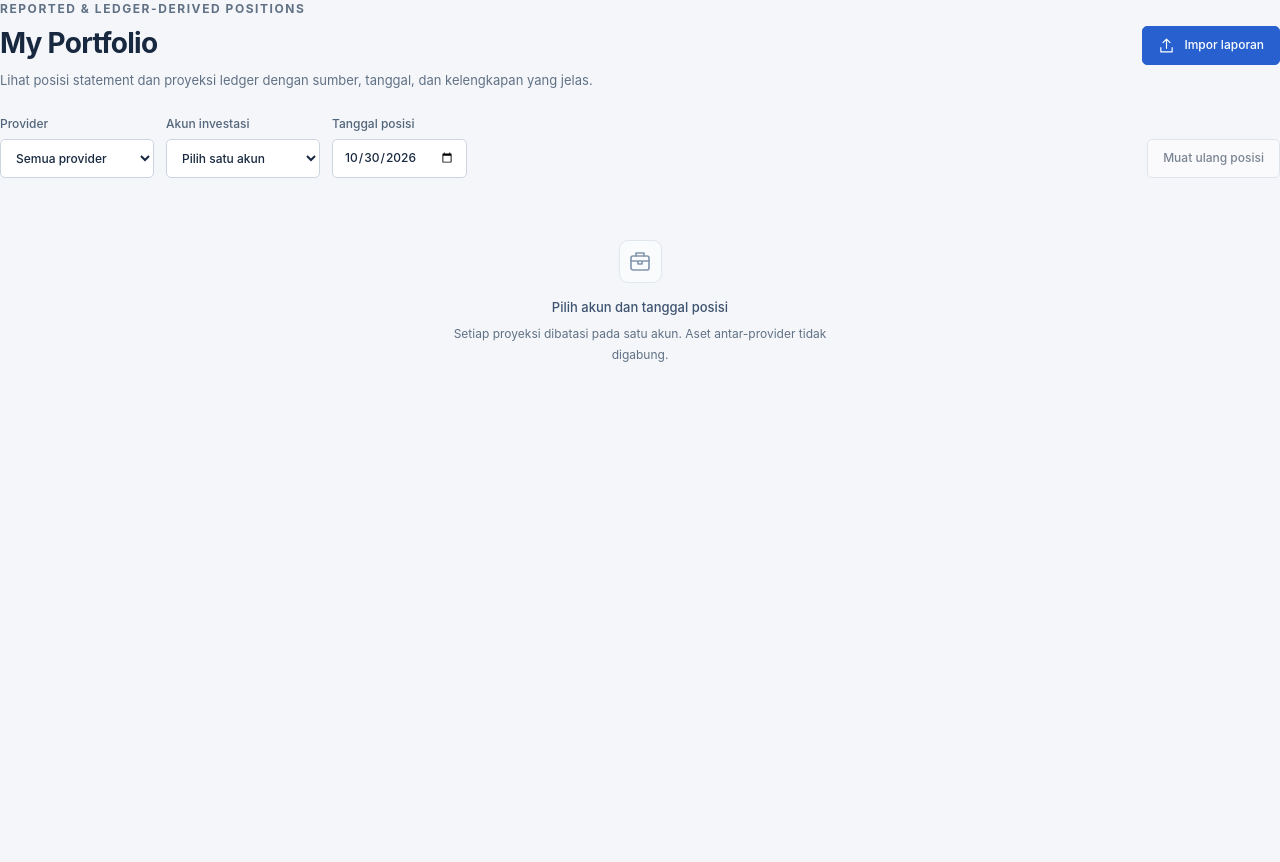
Test: confirms metadata only after unit review and attestation, keeping source quantity out of the POST
The width and height of the screenshot is (1280, 862).
Select "DEMO Stockbit" in the dropdown labelled "Akun investasi": (243,158) [166,139,320,178]
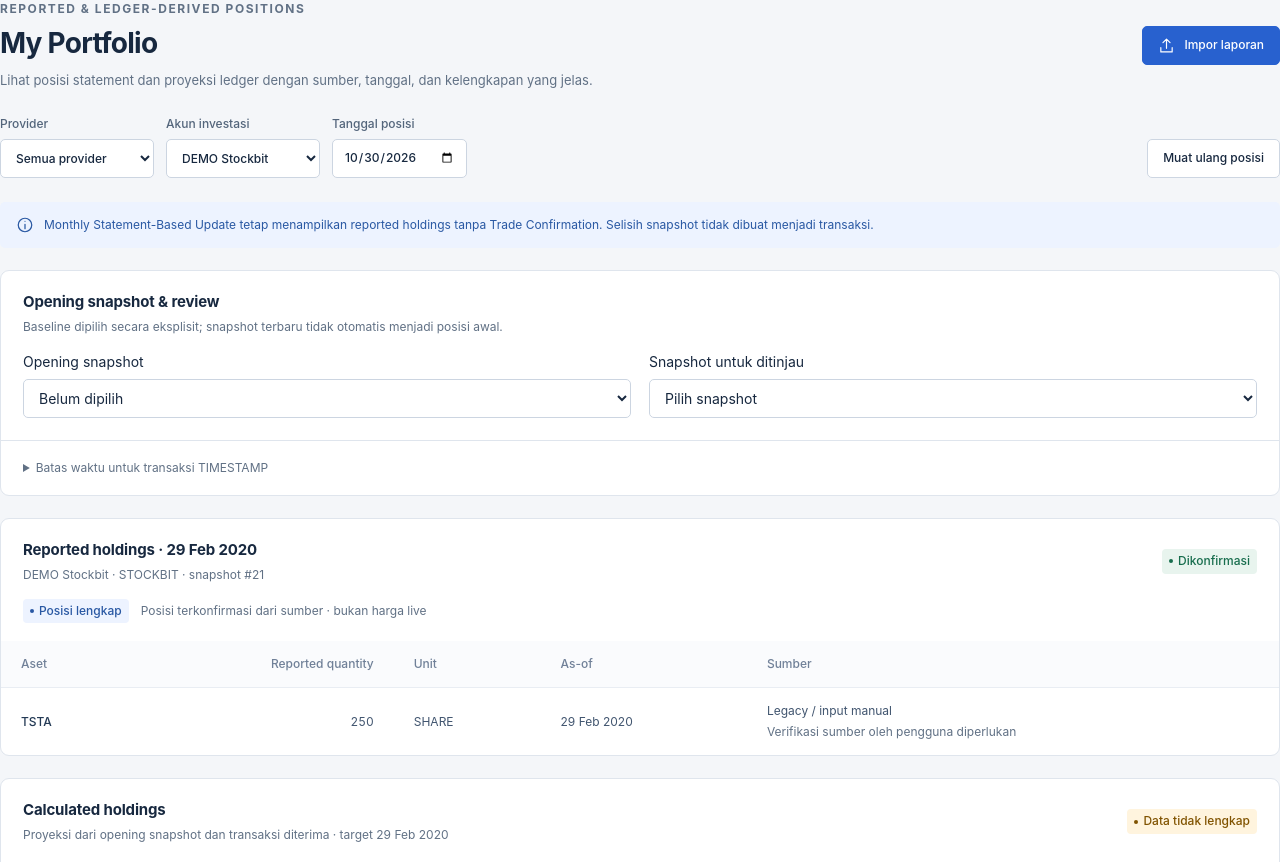
Now the dropdown labelled "Snapshot untuk ditinjau" is shown
Select "#11 · 31 Jan 2020 · REQUIRED" in the dropdown labelled "Snapshot untuk ditinjau": (953,398) [649,379,1257,418]
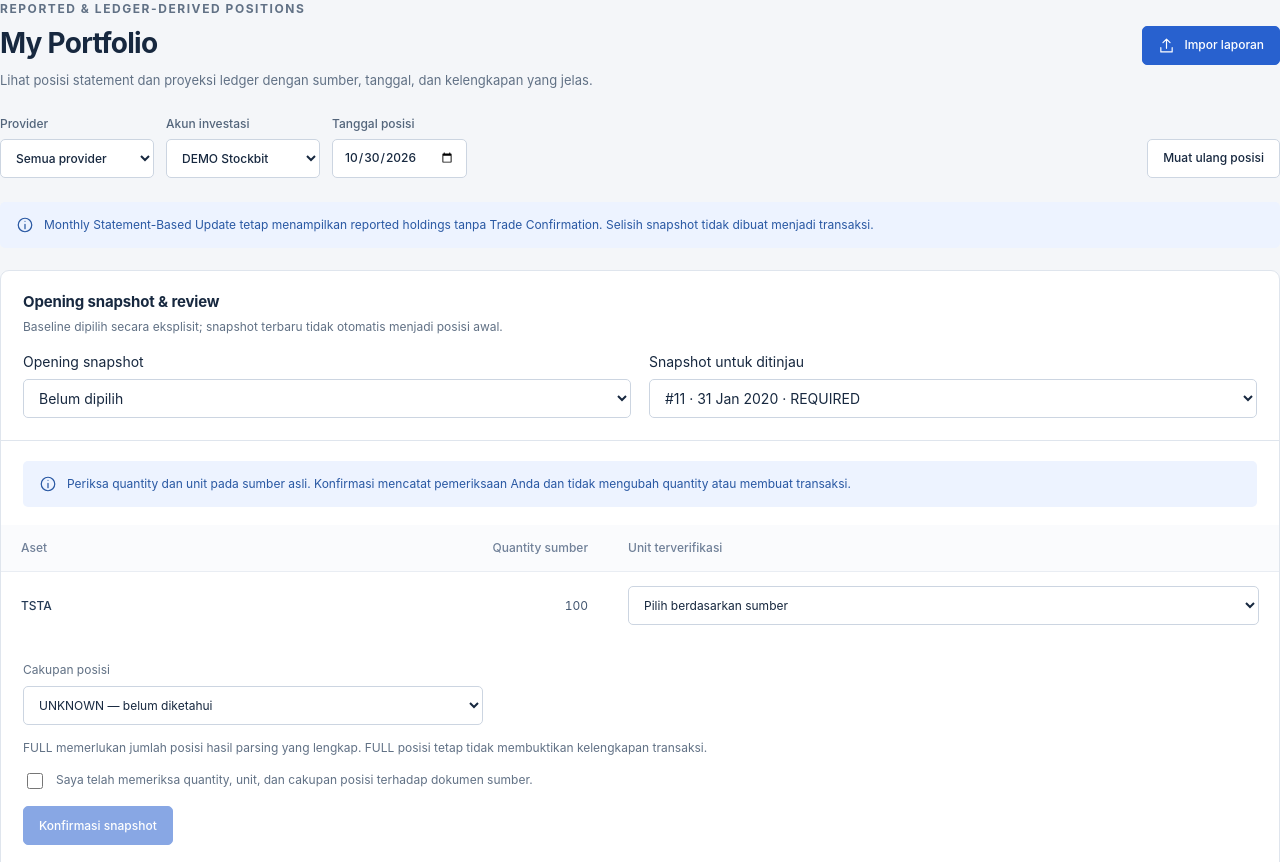
Now the button "Konfirmasi snapshot" is disabled, box [23,806,173,845]
Select "SHARE" in the dropdown named "Unit TSTA": (944,606) [628,586,1259,625]
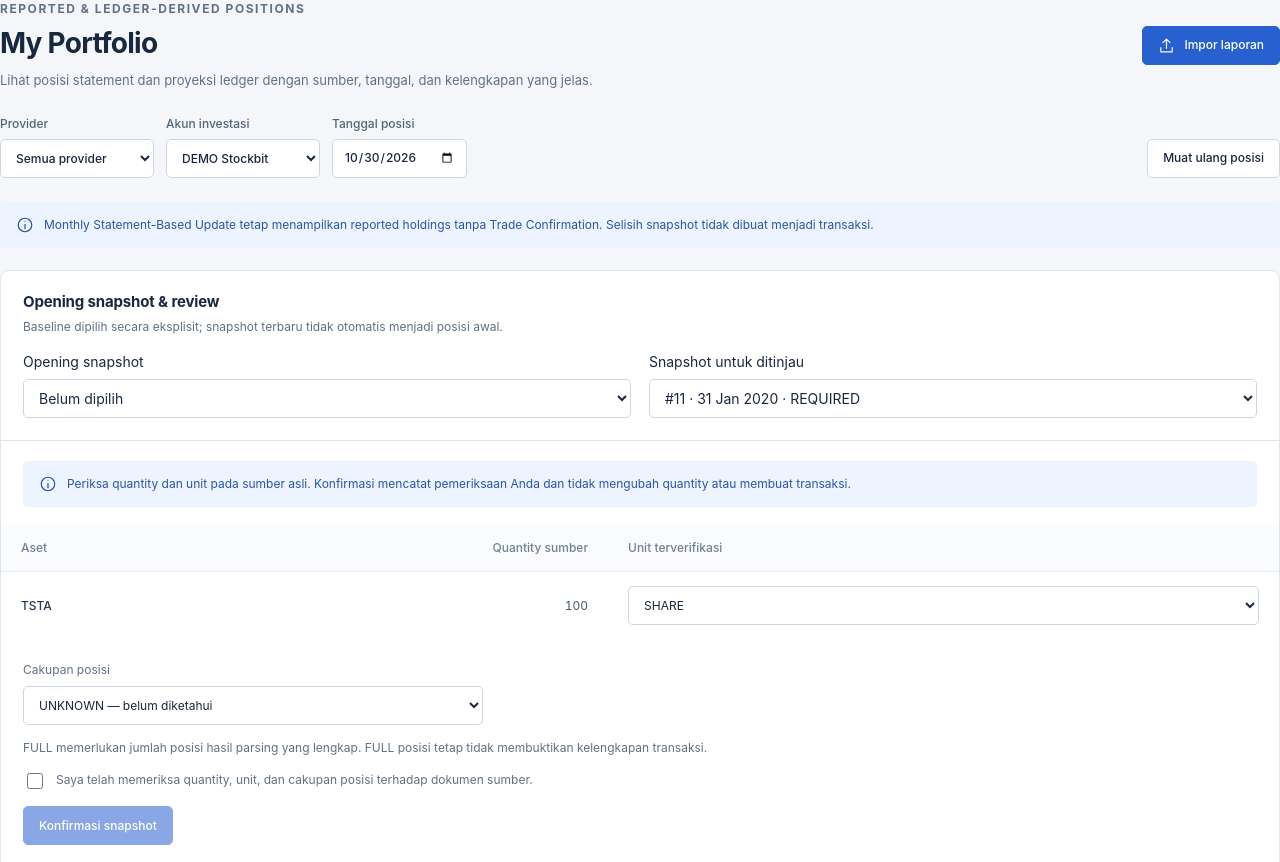
Select "PARTIAL — sebagian posisi" in the dropdown labelled "Cakupan posisi": (253,706) [23,686,483,725]
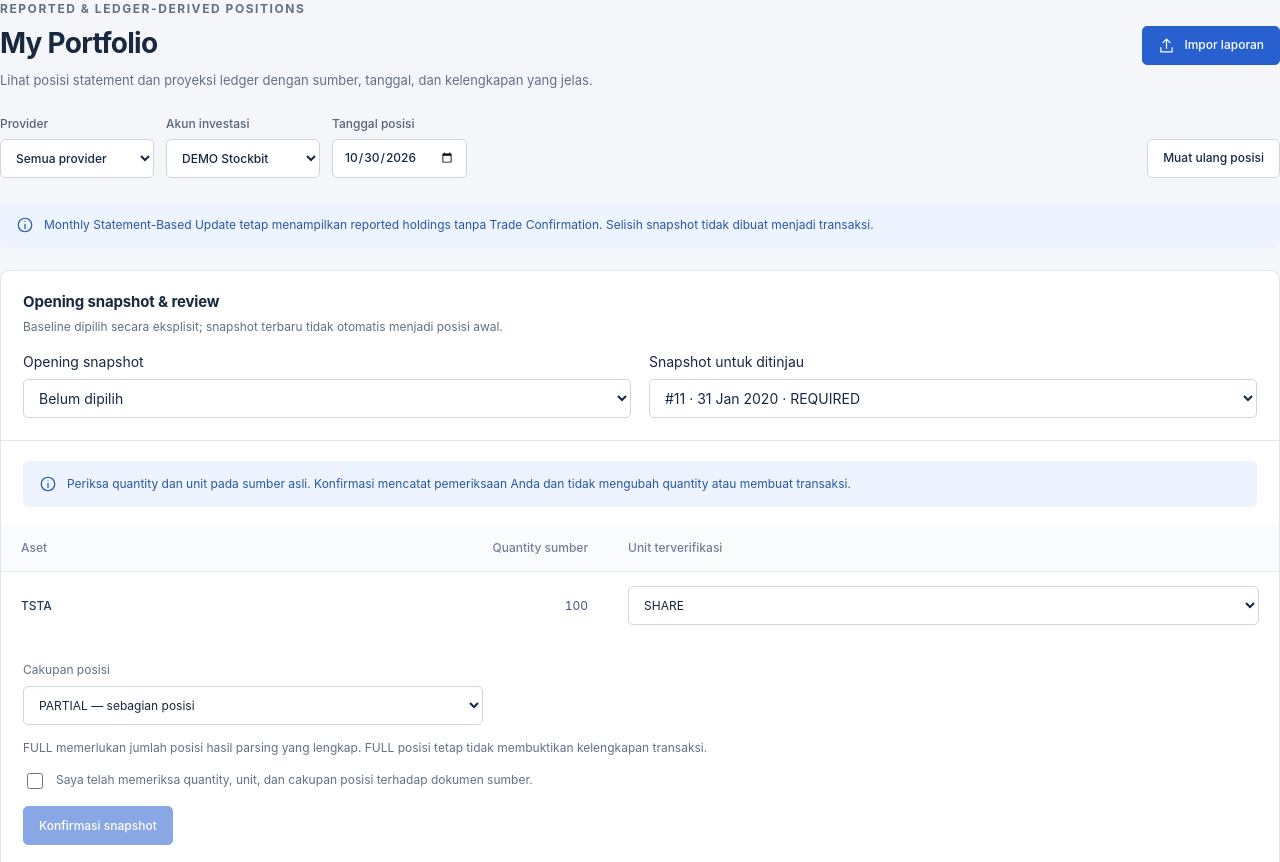
Click the checkbox labelled "Saya telah memeriksa": (35,781) [27,773,43,789]
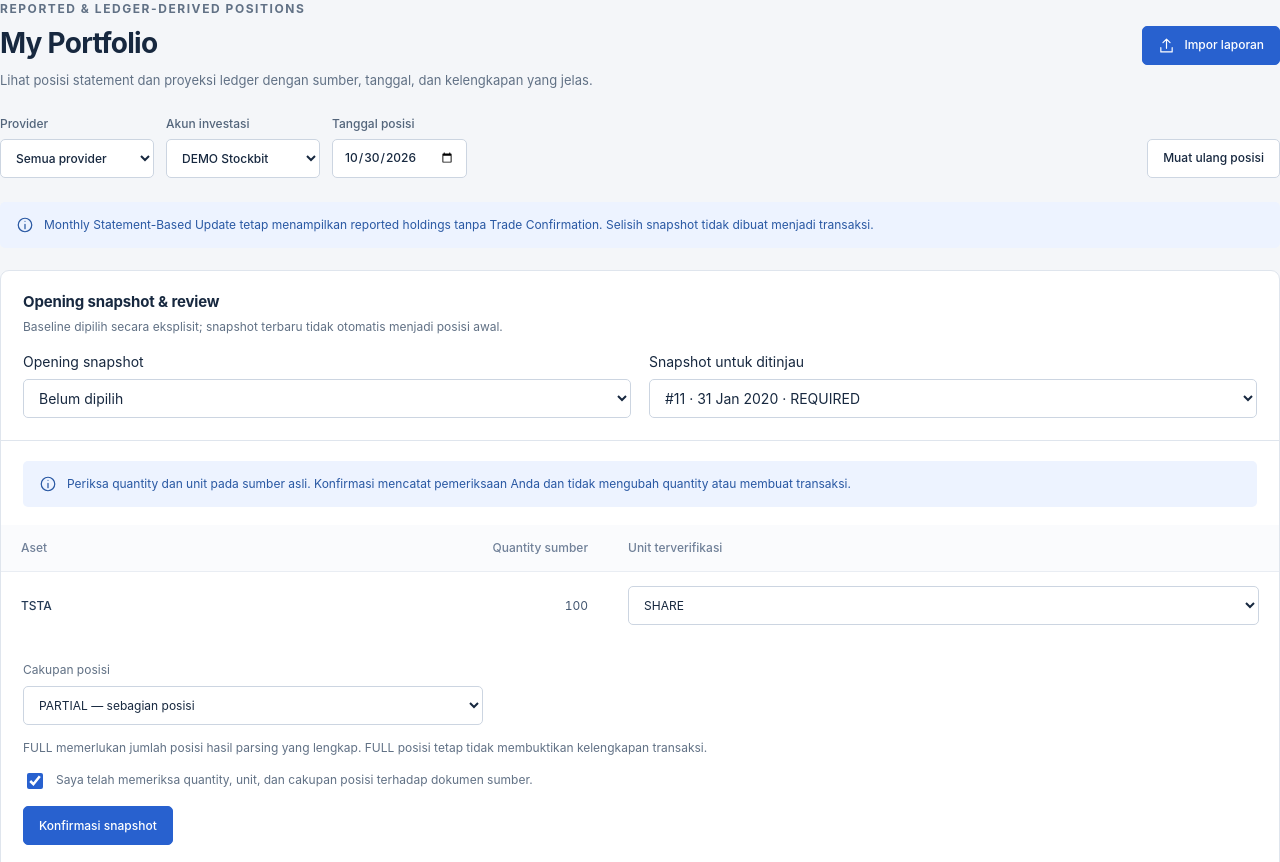
Click the button "Konfirmasi snapshot": (98,826) [23,806,173,845]
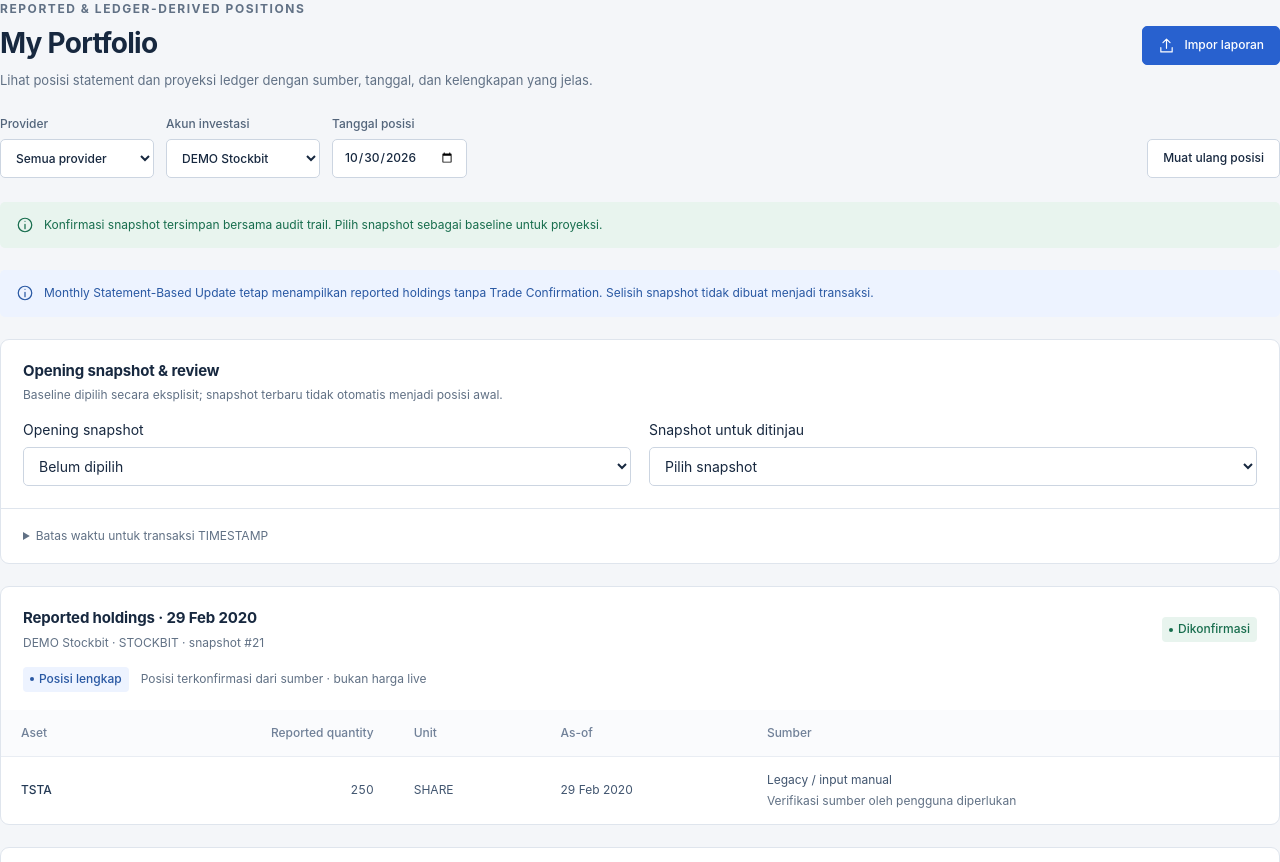
Now the text "Konfirmasi snapshot tersimpan bersama audit trail" is shown, box [44,217,602,232]
